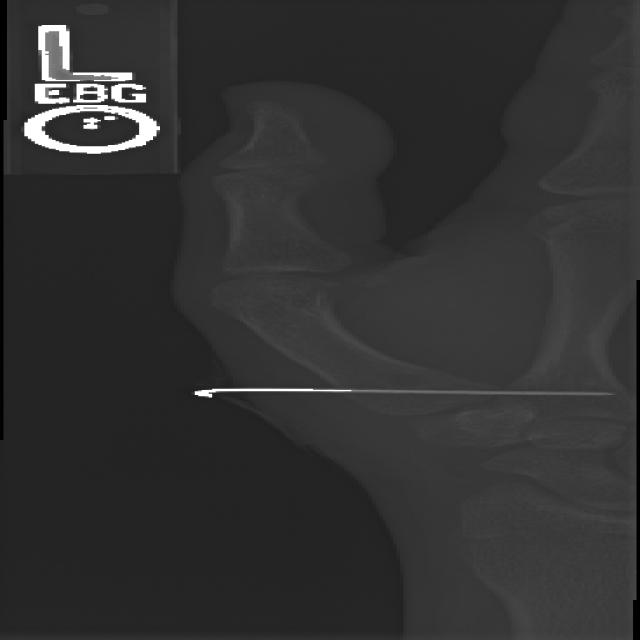fingers positive: (228, 158, 340, 204)
